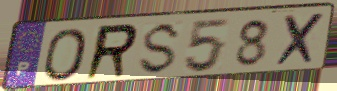5: (183, 17, 233, 74)
8: (233, 17, 271, 69)
O: (42, 26, 90, 83)
R: (81, 21, 141, 83)
S: (135, 20, 184, 77)
X: (274, 11, 328, 70)
